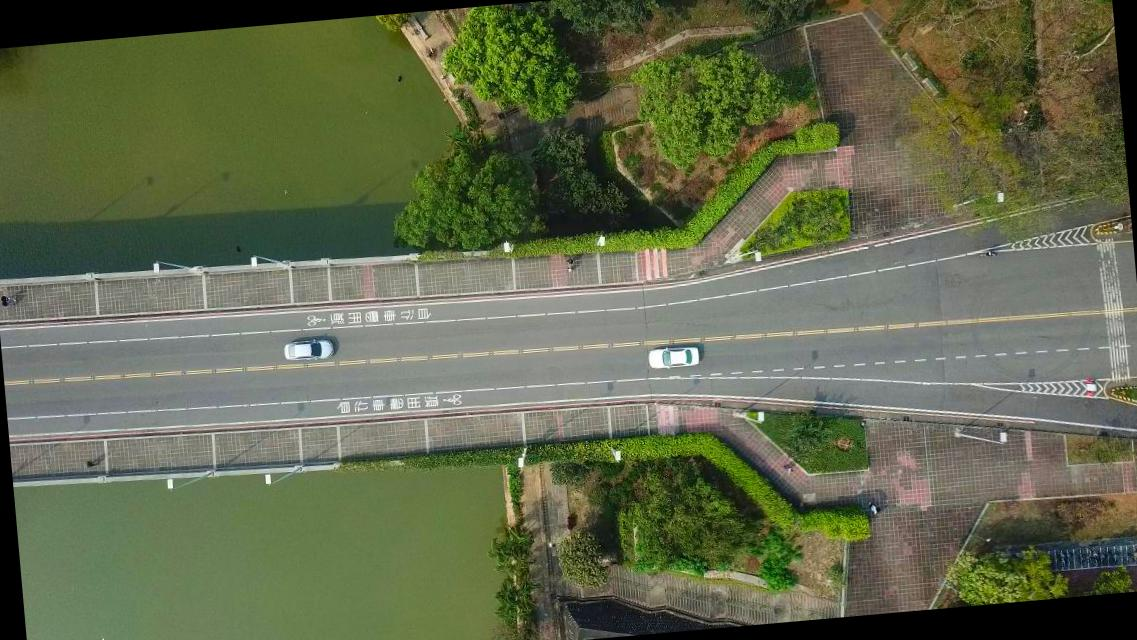vehicle: (646, 344, 700, 371), (282, 338, 334, 363)
